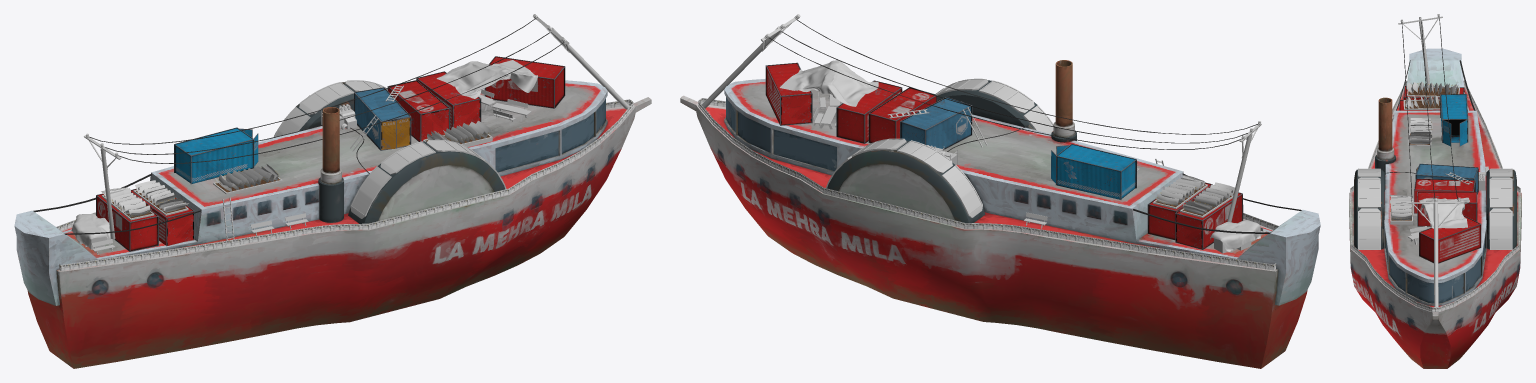
File: ShipLarge02.fbx
The picture shows the model from 3 angles, left to right: view 1: azimuth 30°, elevation 25°; view 2: azimuth 150°, elevation 25°; view 3: azimuth 270°, elevation 25°; orthographic projection. The views are drawn at different scales.
Visible parts, largest first — view 1: BoatL03, WheatFarms, PowerAssets.001, DeckAssets01.001, Rail, ContainerP2, ContainerP1, WheatFarms.001; view 2: BoatL03, WheatFarms, PowerAssets.001, DeckAssets01.001, Rail, ContainerP2, ContainerP1; view 3: BoatL03, PowerAssets.001, WheatFarms, Rail, DeckAssets01.001, ContainerP2, ContainerP1, WheatFarms.001, Cube.011, Cube.010.
Boxes of the visible parts, x1,y1,x2,y2 form: BoatL03: [14, 80, 651, 368]; WheatFarms: [96, 56, 565, 251]; PowerAssets.001: [33, 14, 629, 239]; DeckAssets01.001: [71, 60, 537, 254]; Rail: [56, 99, 633, 270]; ContainerP2: [174, 127, 254, 184]; ContainerP1: [354, 87, 411, 150]; WheatFarms.001: [422, 120, 492, 147]; BoatL03: [680, 60, 1320, 368]; WheatFarms: [765, 62, 1243, 249]; PowerAssets.001: [702, 14, 1301, 233]; DeckAssets01.001: [779, 60, 1266, 253]; Rail: [698, 98, 1278, 270]; ContainerP2: [1055, 144, 1136, 199]; ContainerP1: [900, 97, 972, 149]; BoatL03: [1349, 48, 1521, 368]; PowerAssets.001: [1358, 14, 1512, 307]; WheatFarms: [1399, 82, 1481, 263]; Rail: [1350, 80, 1520, 311]; DeckAssets01.001: [1392, 86, 1488, 244]; ContainerP2: [1440, 94, 1468, 142]; ContainerP1: [1415, 163, 1478, 194]; WheatFarms.001: [1389, 195, 1413, 224]; Cube.011: [1442, 120, 1451, 146]; Cube.010: [1459, 119, 1467, 146].
Bounding box in the file's own units: 63.1 × 18.5 × 20.81.
